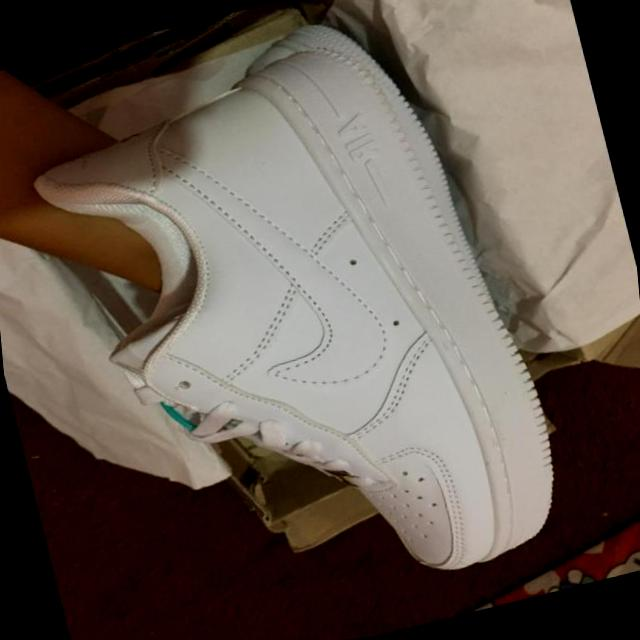nike_fake_airforce: (9, 6, 594, 640)
